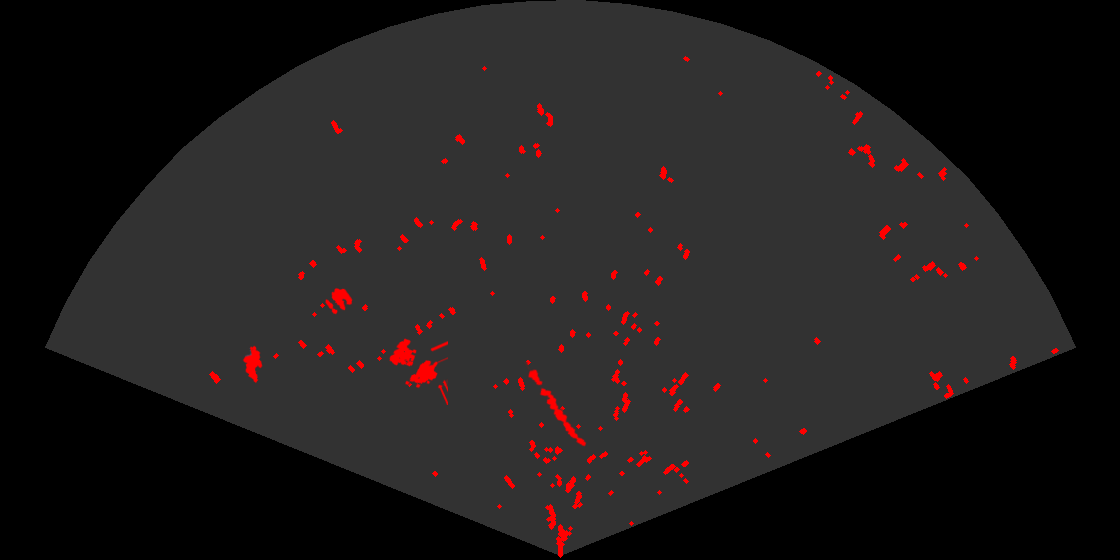AUV: (241, 344, 264, 385)
ball: (324, 286, 354, 316)
cage: (388, 337, 448, 405)
chain: (523, 362, 588, 448)
